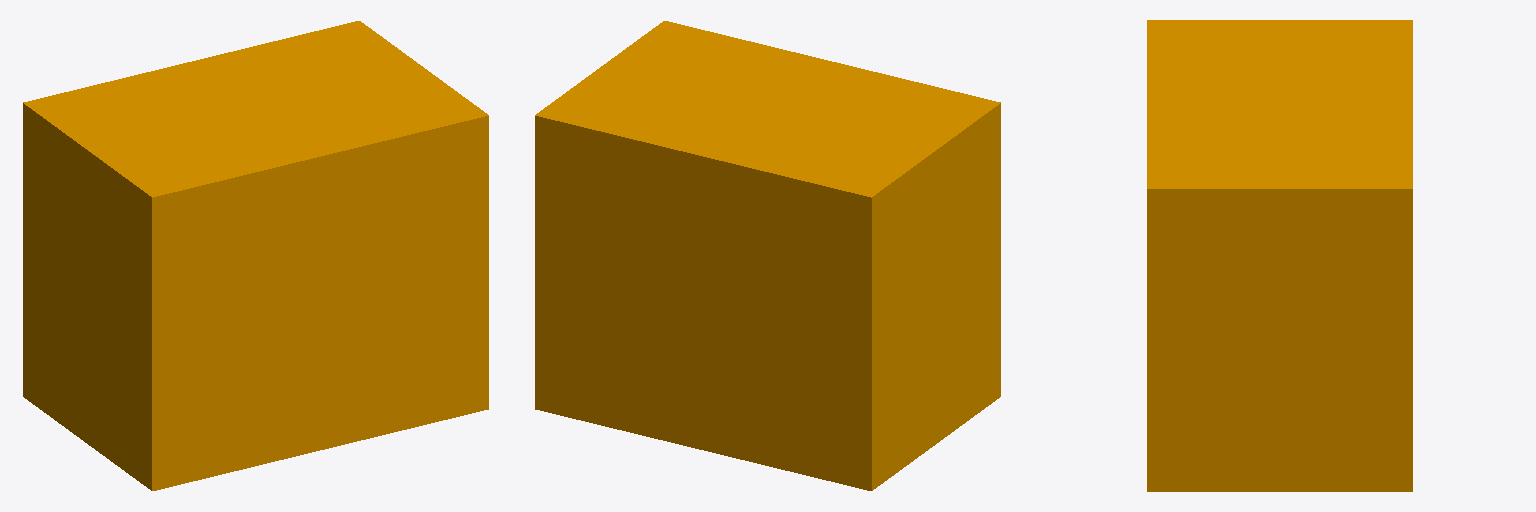
robot.urdf — object:
<?xml version="0.0"?>
	<robot name="object">
		<link name="object">
			<visual>
				<origin xyz="0 0 0"/>
				<geometry>
					<box size="0.6 0.4 0.5"/>
				</geometry>
			</visual>
			<inertial>
				<mass value="12.000"/>
			</inertial>
			<collision>
				<origin xyz="0 0 0"/>
				<geometry>
					<box size="0.6 0.4 0.5"/>
				</geometry>
			</collision>
		</link>

	</robot>

--- Render facts (derived) ---
3 views of the same robot in one strip: view 1: azimuth 30°, elevation 25°; view 2: azimuth 150°, elevation 25°; view 3: azimuth 270°, elevation 25° (orthographic).
Model object with 1 links and 0 joints (none), rooted at object, posed every joint at zero.
Links seen in each view (by area): view 1: object; view 2: object; view 3: object.
Link boxes in pixels (<box>): object: <box>23,21,488,490</box>; object: <box>535,21,1000,490</box>; object: <box>1147,20,1412,491</box>.
Bounding box of the posed robot: 0.6 × 0.4 × 0.5 m (x, y, z).
Geometry: primitives only (box / cylinder / sphere), no mesh files.